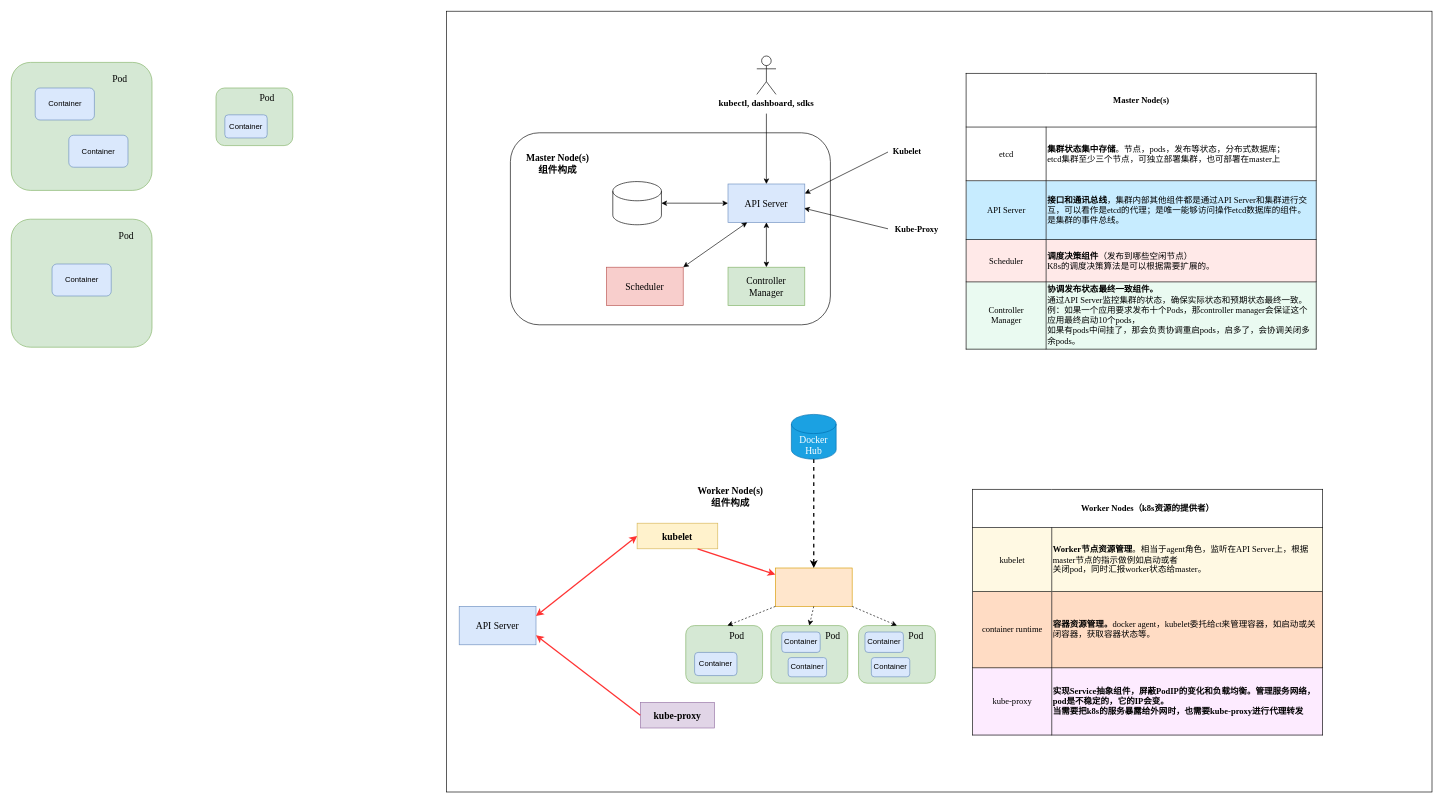
Image size: 1443x803. Some labels were removed from this diagram. Each missing label, with the box of its shape:
Container Runtime: (775, 567, 852, 606)
etcd: (612, 181, 661, 225)
